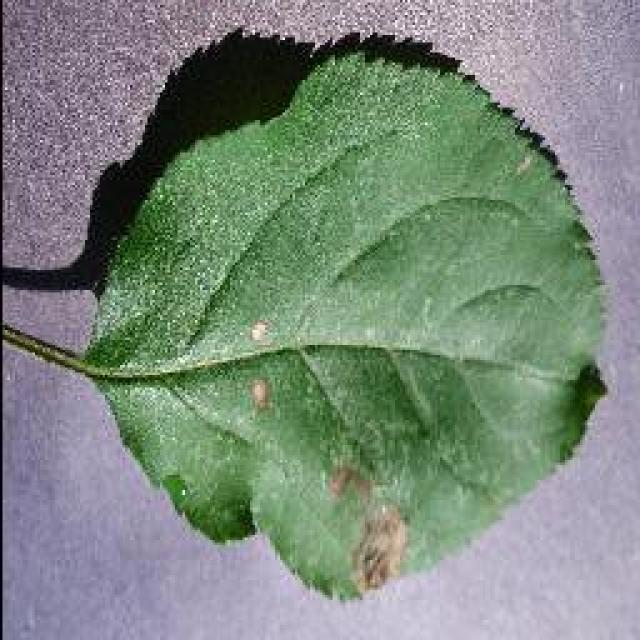apple black rot: (0, 22, 612, 602)
